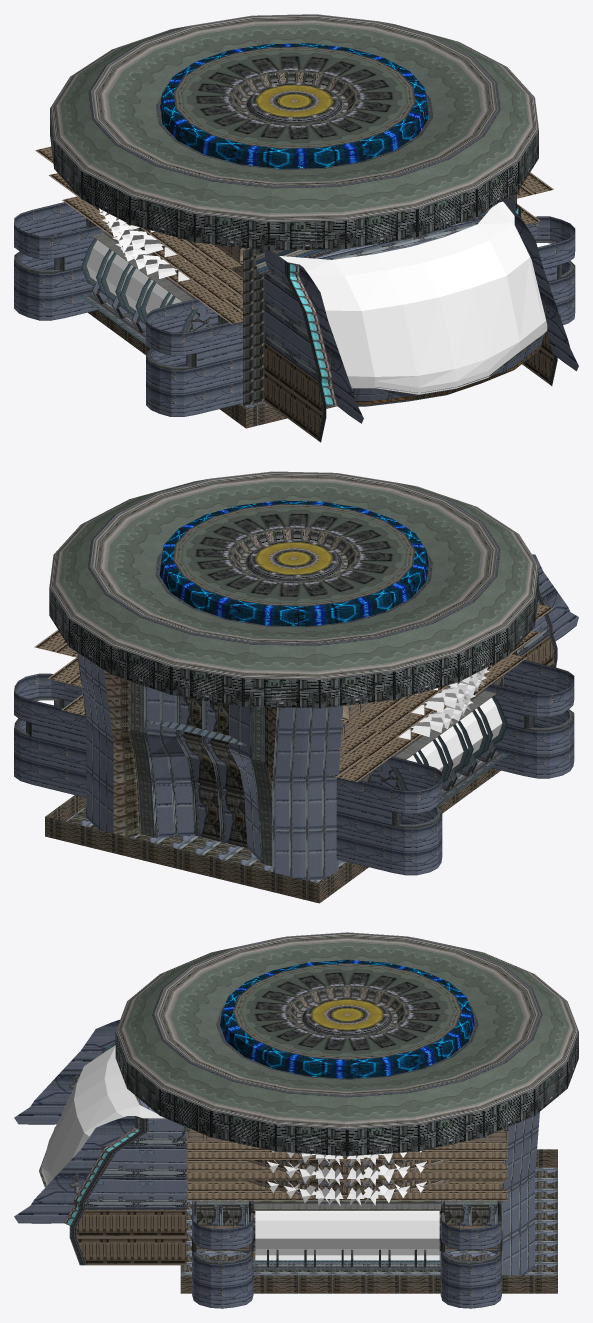
File: boss-olga-flow.obj
3 renders of one model, top to bottom at view 1: azimuth 30°, elevation 25°; view 2: azimuth 150°, elevation 25°; view 3: azimuth 270°, elevation 25°, orthographic. The views are drawn at different scales.
Parts seen in each view (by area): view 1: mesh_83, mesh_0, mesh_78, mesh_82, mesh_121, mesh_53, mesh_120, mesh_142, mesh_12, mesh_8, mesh_10, mesh_9 (+18 smaller); view 2: mesh_83, mesh_65, mesh_78, mesh_82, mesh_121, mesh_53, mesh_68, mesh_49, mesh_66, mesh_120, mesh_142, mesh_69 (+18 smaller); view 3: mesh_83, mesh_78, mesh_82, mesh_116, mesh_93, mesh_53, mesh_12, mesh_10, mesh_8, mesh_95, mesh_0, mesh_49 (+17 smaller).
Part boxes in pixels (x1=…): mesh_83: x1=50, y1=14, x2=538, y2=222; mesh_0: x1=279, y1=201, x2=547, y2=394; mesh_78: x1=173, y1=46, x2=415, y2=148; mesh_82: x1=50, y1=108, x2=538, y2=250; mesh_121: x1=14, y1=253, x2=242, y2=416; mesh_53: x1=160, y1=43, x2=428, y2=168; mesh_120: x1=14, y1=202, x2=242, y2=355; mesh_142: x1=35, y1=146, x2=242, y2=324; mesh_12: x1=299, y1=212, x2=578, y2=423; mesh_8: x1=264, y1=332, x2=553, y2=439; mesh_10: x1=264, y1=197, x2=515, y2=380; mesh_9: x1=243, y1=191, x2=516, y2=406; mesh_83: x1=49, y1=471, x2=538, y2=679; mesh_65: x1=77, y1=652, x2=343, y2=880; mesh_78: x1=173, y1=504, x2=415, y2=606; mesh_82: x1=49, y1=567, x2=538, y2=708; mesh_121: x1=336, y1=710, x2=574, y2=875; mesh_53: x1=159, y1=500, x2=428, y2=626; mesh_68: x1=144, y1=686, x2=262, y2=863; mesh_49: x1=45, y1=768, x2=500, y2=903; mesh_66: x1=175, y1=696, x2=247, y2=848; mesh_120: x1=336, y1=660, x2=574, y2=813; mesh_142: x1=329, y1=604, x2=553, y2=782; mesh_69: x1=104, y1=670, x2=276, y2=837; mesh_83: x1=116, y1=932, x2=578, y2=1129; mesh_78: x1=232, y1=963, x2=461, y2=1059; mesh_82: x1=115, y1=1032, x2=578, y2=1156; mesh_116: x1=187, y1=1141, x2=507, y2=1200; mesh_93: x1=255, y1=1211, x2=439, y2=1260; mesh_53: x1=220, y1=960, x2=474, y2=1078; mesh_12: x1=14, y1=1019, x2=135, y2=1223; mesh_10: x1=85, y1=1118, x2=186, y2=1209; mesh_8: x1=77, y1=1209, x2=186, y2=1265; mesh_95: x1=192, y1=1213, x2=501, y2=1308; mesh_0: x1=41, y1=1045, x2=164, y2=1185; mesh_49: x1=180, y1=1149, x2=557, y2=1293.
Size of the model in its own units: 1584 by 833 by 1932.
Materials: 42 (42 with a texture image).
